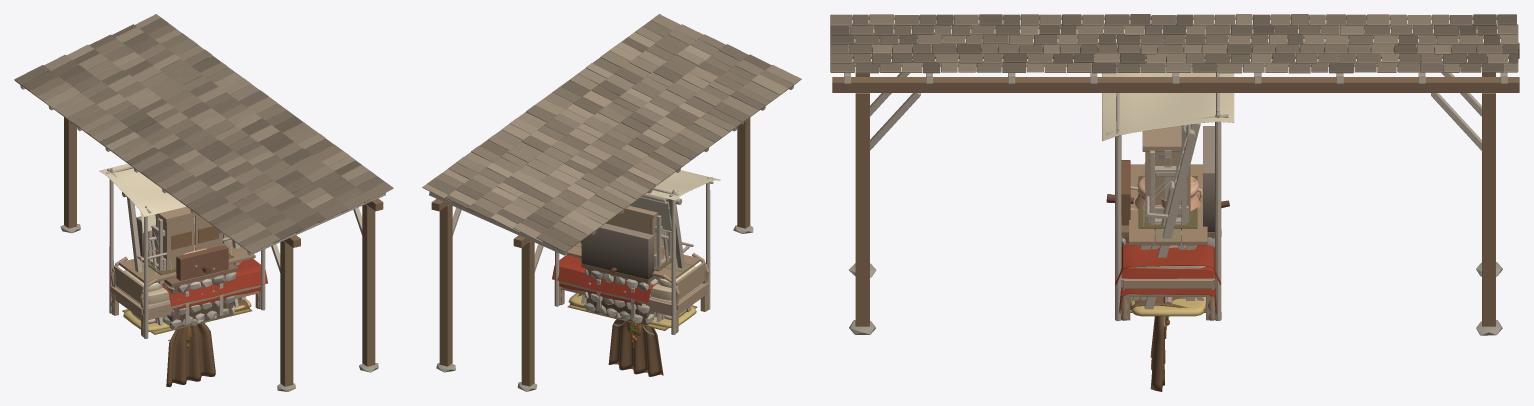
Rendered from interior_kit.glb.
3 renders of one model, left to right at view 1: azimuth 30°, elevation 25°; view 2: azimuth 150°, elevation 25°; view 3: azimuth 270°, elevation 25°, orthographic. The views are drawn at different scales.
Parts seen in each view (by area): view 1: forge_shelter, stall_trestle, bed_fine, forge_hearth, hang_cloak, armarium, loom_warp, bed_madder, pallet_brown, shelf_rack, quench_trough; view 2: forge_shelter, forge_hearth, bed_fine, stall_trestle, hang_cloak, loom_warp, armarium, bed_madder, pallet_brown, shelf_rack, quench_trough; view 3: forge_shelter, stall_trestle, bed_fine, forge_hearth, bed_madder, loom_warp, armarium, pallet_brown, hang_cloak, shelf_rack.
Part boxes in pixels (x1,y1,x2,y2): forge_shelter: (14, 14, 393, 391); stall_trestle: (99, 163, 265, 338); bed_fine: (110, 256, 267, 336); forge_hearth: (136, 216, 238, 329); hang_cloak: (166, 323, 215, 386); armarium: (152, 207, 222, 270); loom_warp: (122, 192, 246, 324); bed_madder: (112, 273, 260, 335); pallet_brown: (123, 298, 251, 331); shelf_rack: (148, 217, 226, 270); quench_trough: (180, 283, 225, 324); forge_shelter: (422, 14, 801, 391); forge_hearth: (581, 223, 657, 325); bed_fine: (552, 253, 709, 333); stall_trestle: (554, 170, 720, 334); hang_cloak: (608, 319, 663, 376); loom_warp: (580, 193, 693, 312); armarium: (605, 202, 669, 255); bed_madder: (559, 269, 707, 331); pallet_brown: (568, 293, 696, 327); shelf_rack: (654, 207, 671, 266); quench_trough: (594, 279, 639, 319); forge_shelter: (830, 14, 1519, 335); stall_trestle: (1102, 29, 1234, 321); bed_fine: (1115, 243, 1220, 320); forge_hearth: (1106, 126, 1214, 248); bed_madder: (1119, 266, 1216, 320); loom_warp: (1138, 123, 1200, 309); armarium: (1142, 126, 1190, 221); pallet_brown: (1130, 297, 1205, 316); hang_cloak: (1150, 316, 1165, 391); shelf_rack: (1150, 150, 1186, 224).
Bounding box in the file's own units: 2.56 × 4 × 6.77.
